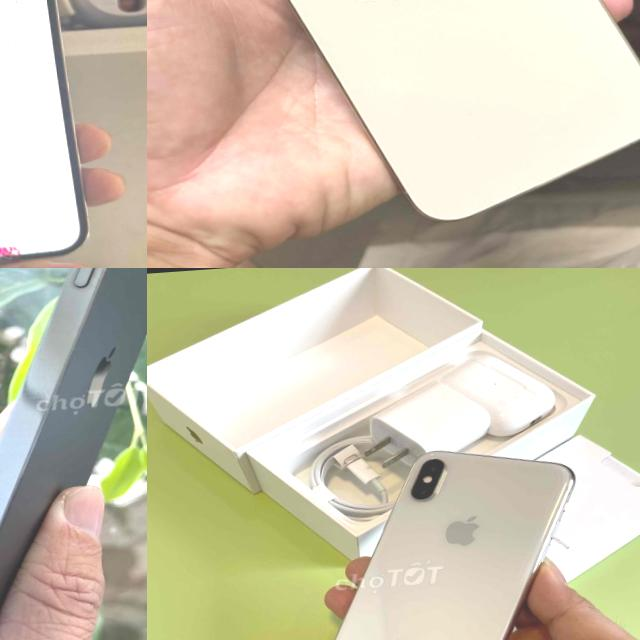gen_12_13: (185, 0, 640, 235), (0, 268, 147, 640), (0, 0, 93, 268)
gen_x_xs: (335, 450, 574, 640)
